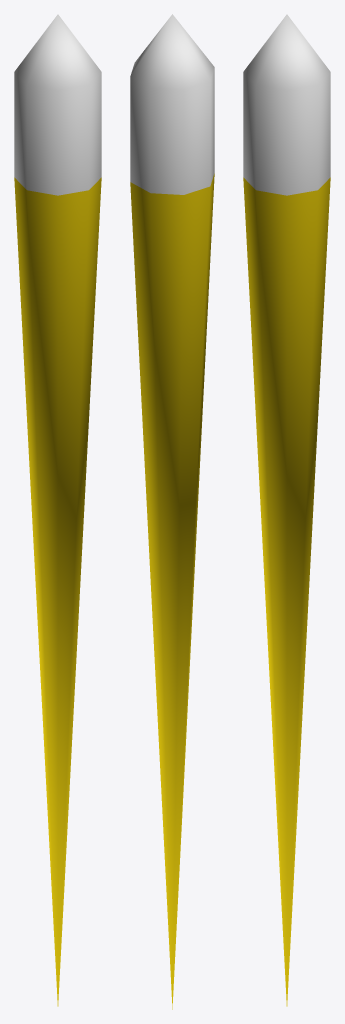
Rendered from bullet_shredder.glb.
The picture shows the model from 3 angles, left to right: view 1: azimuth 90°, elevation 25°; view 2: azimuth 150°, elevation 25°; view 3: azimuth 270°, elevation 25°; orthographic projection.
Visible parts, largest first — view 1: bullet_shredder; view 2: bullet_shredder; view 3: bullet_shredder.
Part boxes in pixels (x1,y1,x2,y2): bullet_shredder: (14,14,101,1006); bullet_shredder: (130,14,214,1009); bullet_shredder: (243,14,330,1006).
Bounding box in the file's own units: 0.1837 × 2.31 × 0.1837.
